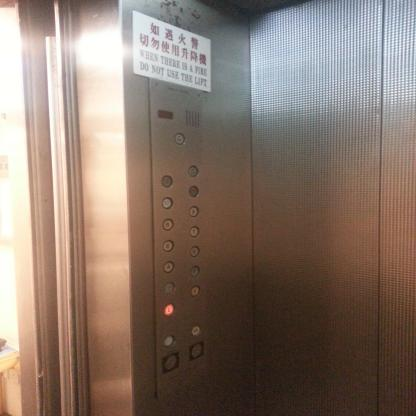1: (189, 284, 201, 296)
10: (162, 196, 174, 209)
12: (160, 174, 173, 188)
3: (188, 264, 200, 278)
4: (162, 260, 174, 273)
5: (188, 244, 200, 258), (187, 164, 198, 176)
6: (162, 238, 174, 252)
7: (188, 225, 200, 238)
8: (162, 218, 174, 230)
9: (188, 205, 200, 218)
G: (163, 302, 175, 316)
alarm: (173, 131, 186, 145)
blur: (187, 184, 199, 198), (163, 282, 175, 294)
close: (190, 324, 202, 337)
empty: (163, 334, 175, 347)
keyhole: (160, 352, 181, 373), (188, 340, 205, 360)
